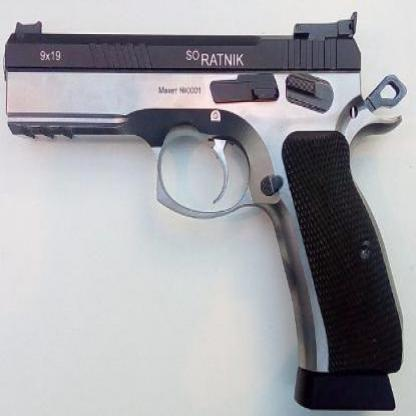pistol: (5, 12, 408, 409)
